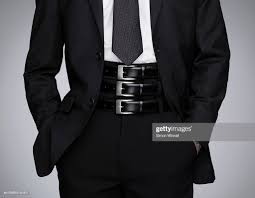F_M_suit jacket: (31, 1, 227, 170)
F_belt: (85, 56, 191, 82), (87, 98, 182, 122), (94, 80, 181, 98)
F_tie: (110, 1, 142, 64)
